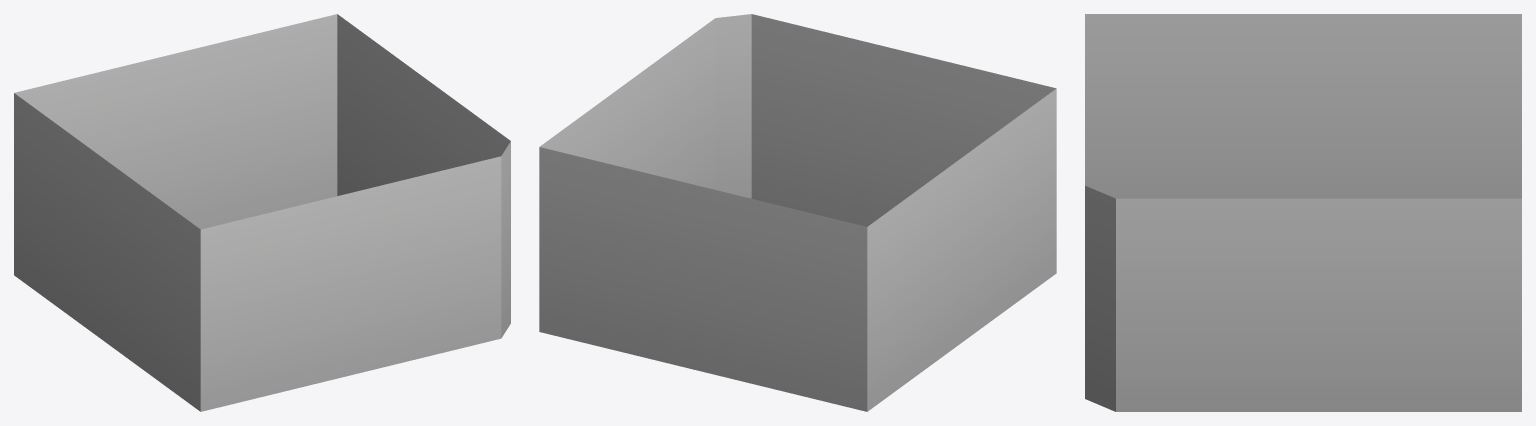
The model's file is Counter_01_Corner_C02.fbx.
3 views of the same model, side by side, from view 1: azimuth 30°, elevation 25°; view 2: azimuth 150°, elevation 25°; view 3: azimuth 270°, elevation 25° (orthographic). The views are drawn at different scales.
Visible parts, largest first — view 1: Counter_01_Corner_C02; view 2: Counter_01_Corner_C02; view 3: Counter_01_Corner_C02.
Part boxes in pixels (box(x1,y1,x2,y2)): Counter_01_Corner_C02: box(14, 14, 510, 411); Counter_01_Corner_C02: box(539, 14, 1056, 411); Counter_01_Corner_C02: box(1085, 14, 1521, 411).
Bounding box in the file's own units: 100 × 53.91 × 100.
